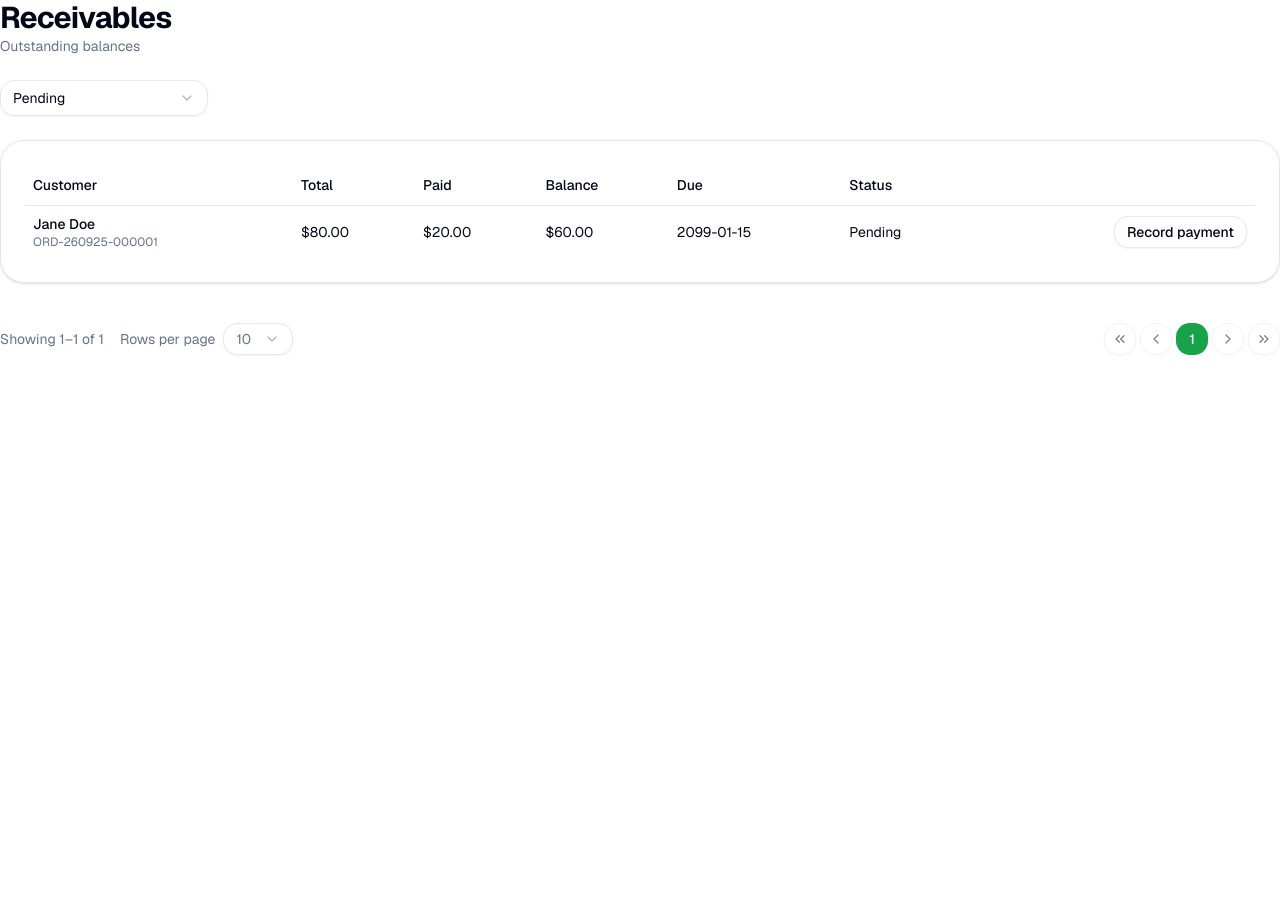
Scenario: receivables PayDialog › the amount is capped to the balance and cash short/change shows
The image size is (1280, 900).
Click the button "Record payment".
click(1180, 232)  # box x1=1114 y1=216 x2=1247 y2=248
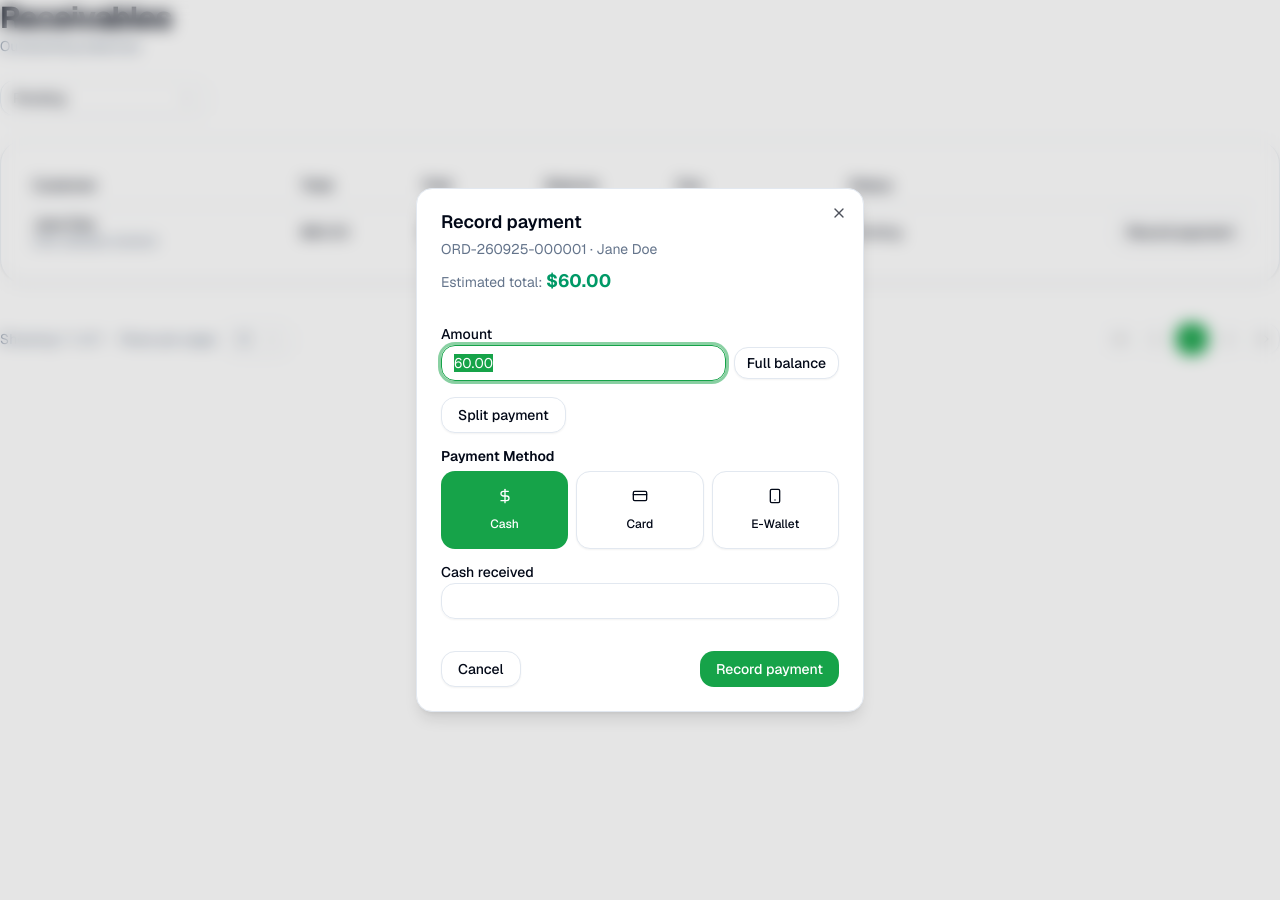
expect the text "ORD-260925-000001 · Jane Doe" is shown: met, box x1=441 y1=240 x2=657 y2=258
expect the field labelled "Amount" holds "60.00": met
Replace the text in the field labelled "Amount" with "90" at (583, 363), box x1=441 y1=345 x2=726 y2=381
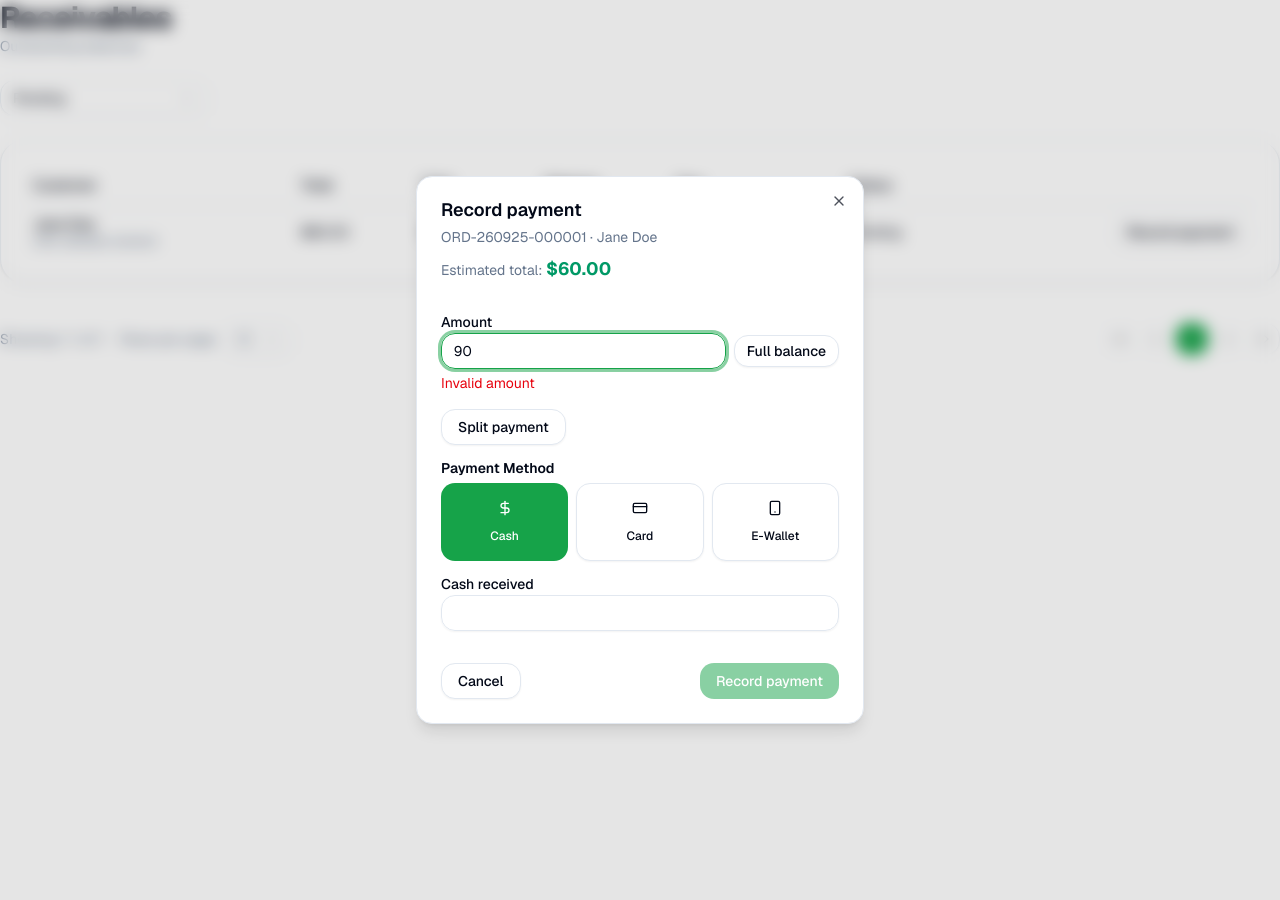
expect the text "Invalid amount" is shown: met, box x1=441 y1=374 x2=535 y2=392
expect the button "Record payment" is disabled: met, box x1=700 y1=663 x2=839 y2=699
Replace the text in the field labelled "Amount" with "60" at (583, 351), box x1=441 y1=333 x2=726 y2=369
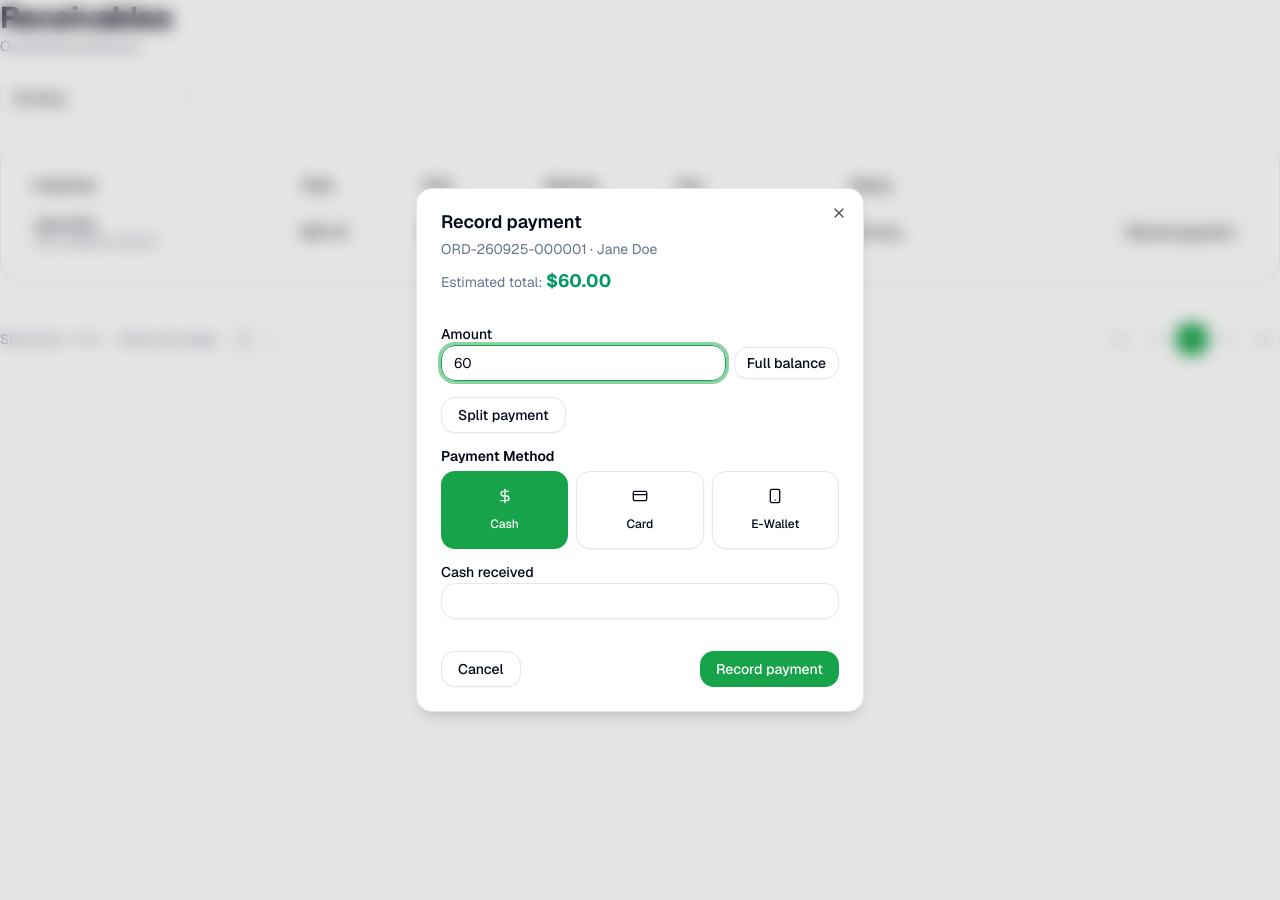
Type "10" into the field labelled "Cash received".
click(640, 601); type("10")  # box x1=441 y1=583 x2=839 y2=619
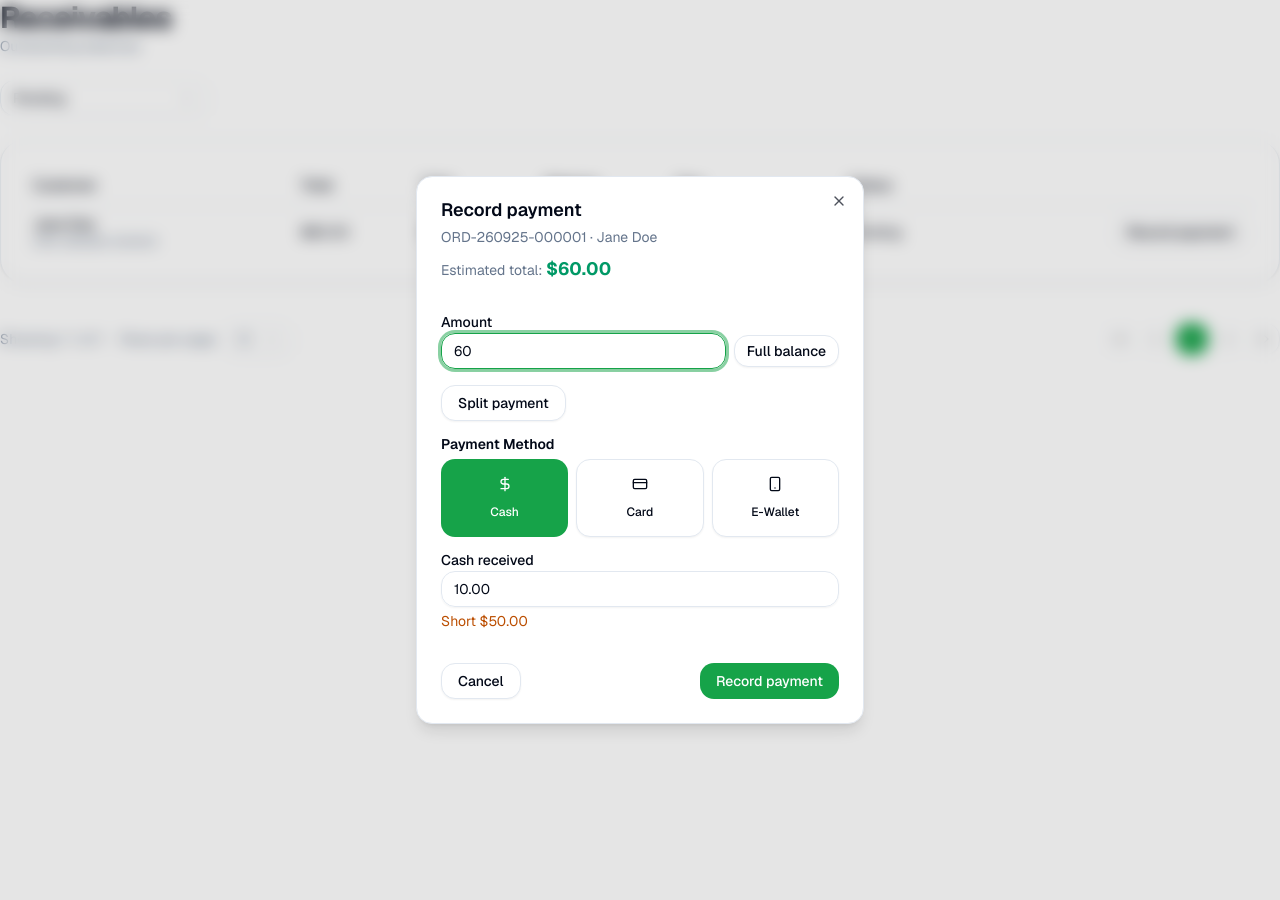
expect the text "Short $50.00" is shown: met, box x1=441 y1=612 x2=528 y2=630
Replace the text in the field labelled "Cash received" with "70" at (640, 589), box x1=441 y1=571 x2=839 y2=607
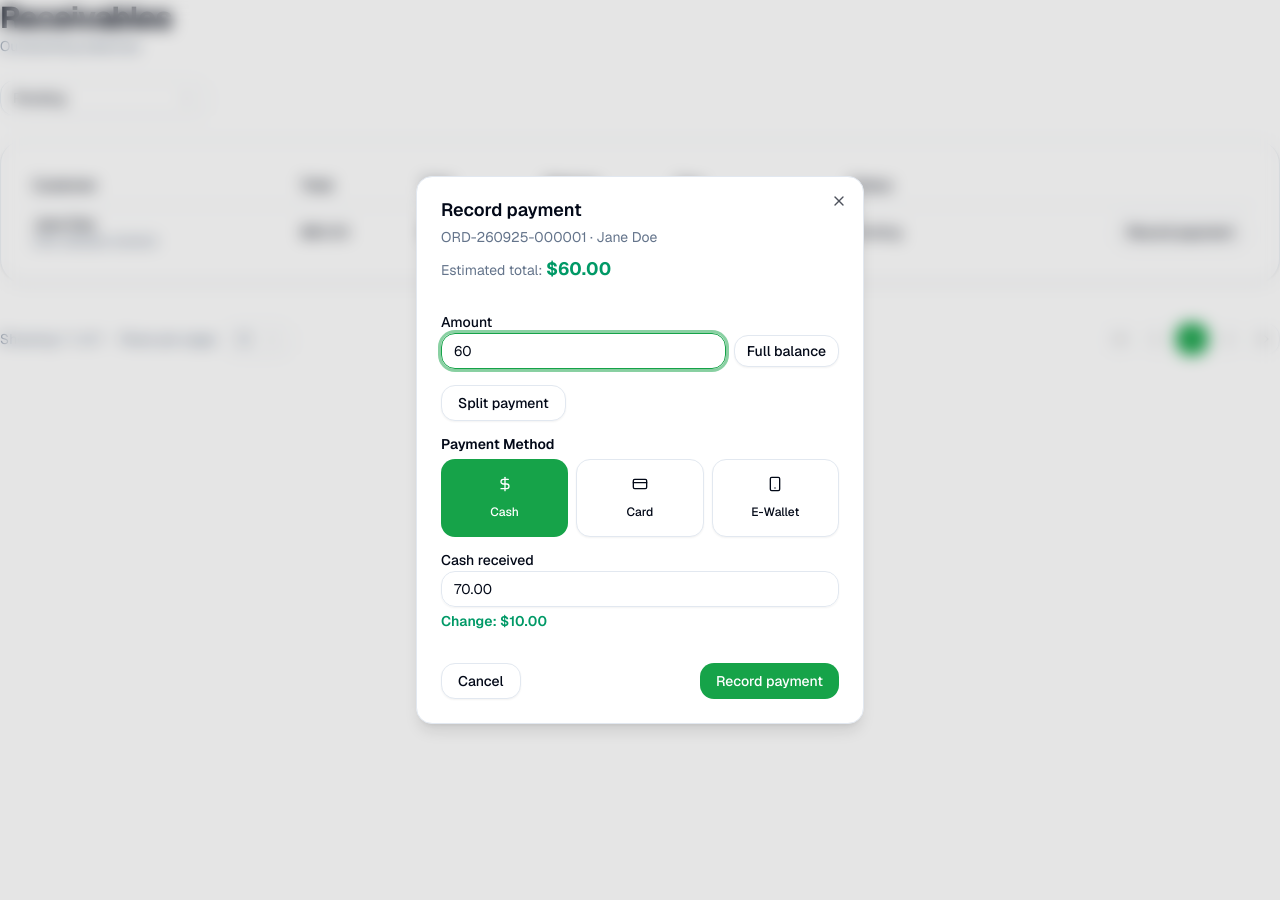
expect the text "Change: $10.00" is shown: met, box x1=441 y1=612 x2=547 y2=630
